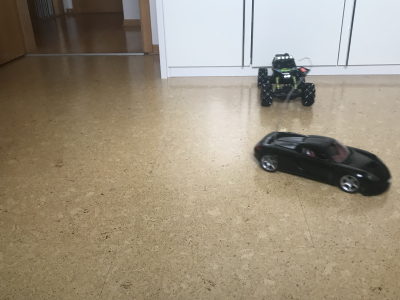remote control car: (254, 52, 318, 107)
